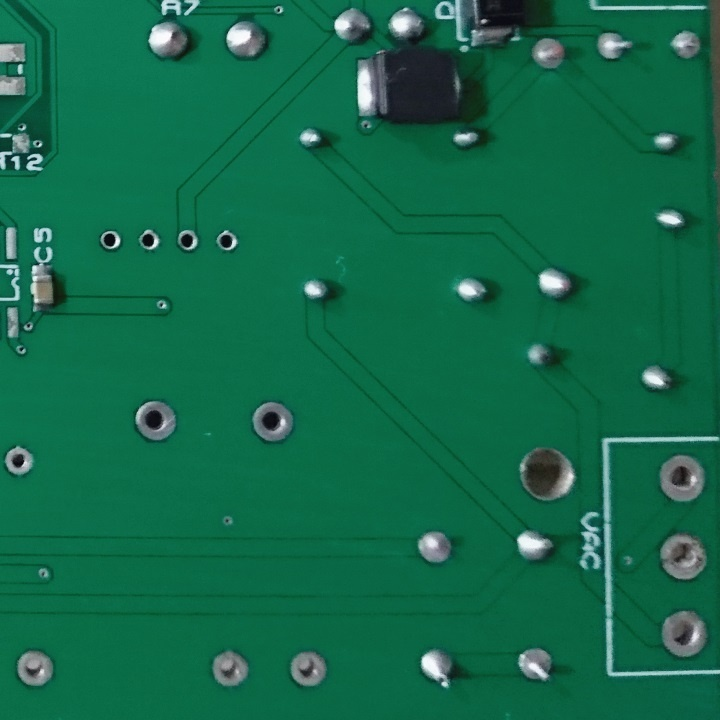F: (657, 529, 710, 584), (655, 452, 707, 506), (659, 605, 709, 661), (250, 398, 297, 446), (133, 399, 179, 446), (285, 648, 333, 690), (13, 648, 59, 690), (210, 648, 254, 689), (513, 645, 558, 685), (529, 35, 573, 75), (416, 529, 455, 572), (593, 27, 634, 66), (666, 28, 704, 65), (3, 442, 39, 481), (173, 225, 199, 256), (95, 227, 123, 255), (213, 230, 240, 255), (136, 229, 160, 255)
